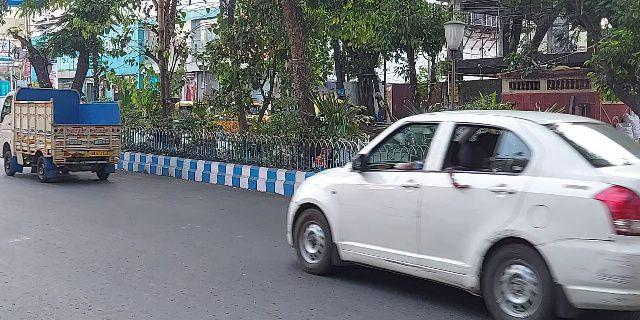Car: (282, 104, 639, 318)
Minitruck: (1, 85, 123, 185)
